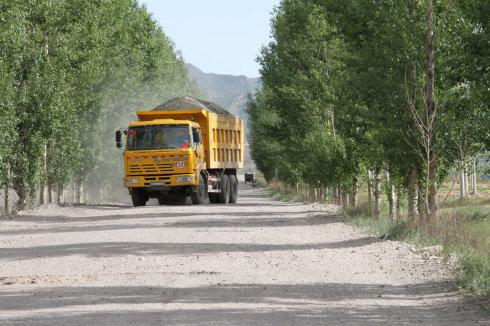chaozhai: (113, 82, 245, 209)
